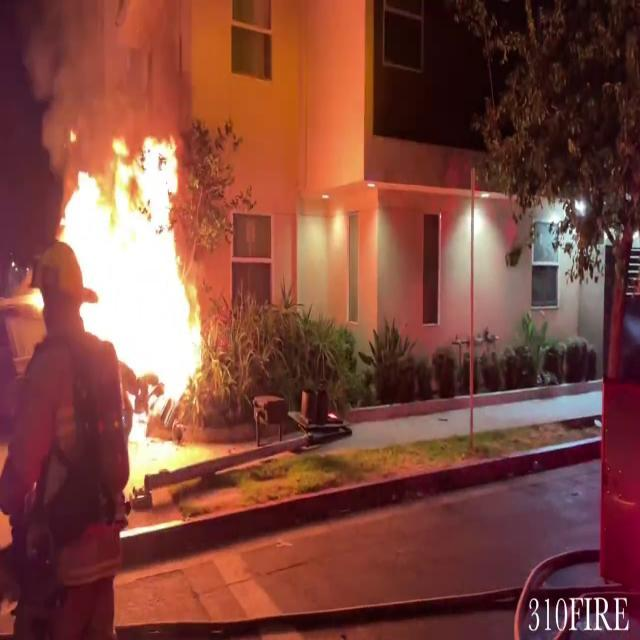Fire: (20, 127, 218, 460)
